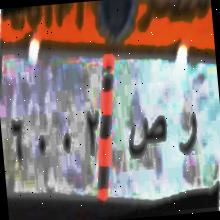0: (60, 127, 75, 159), (36, 131, 49, 160)
2: (80, 100, 105, 160)
6: (7, 112, 28, 169)
raa: (172, 104, 209, 168)
saad: (123, 109, 172, 171)
